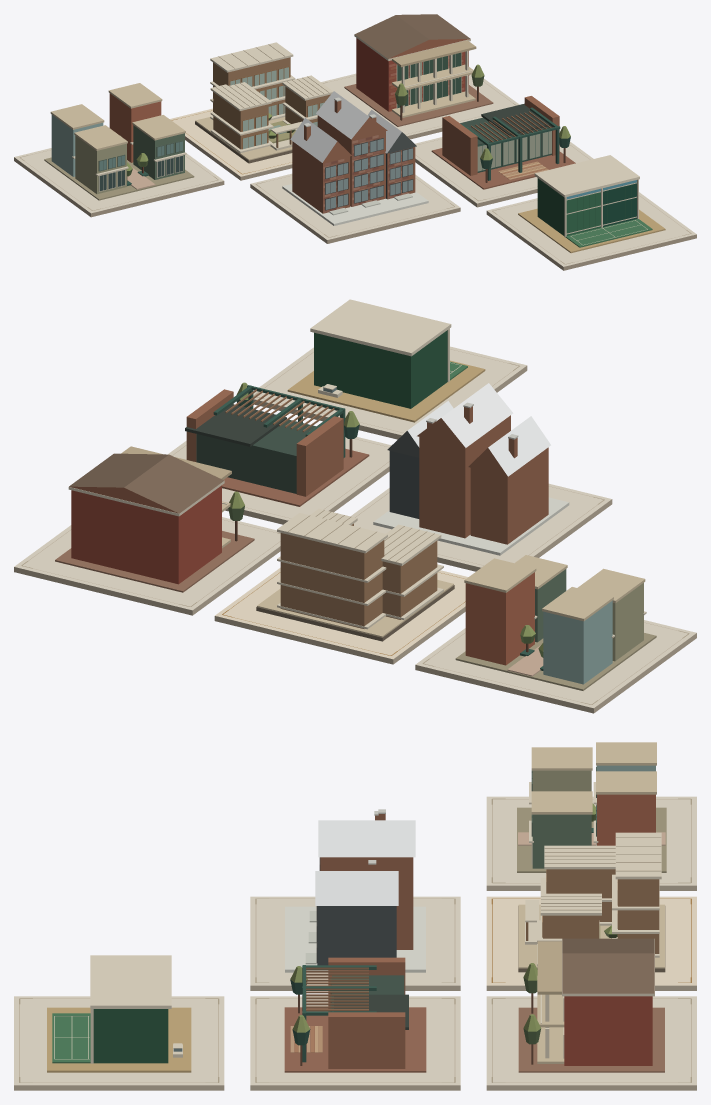
File: loom-district.glb
The picture shows the model from 3 angles, top to bottom: view 1: azimuth 30°, elevation 25°; view 2: azimuth 150°, elevation 25°; view 3: azimuth 270°, elevation 25°; orthographic projection. The views are drawn at different scales.
Parts seen in each view (by area): view 1: District grounds, The Northern Row mesh, The Southern Row mesh, Row 2030 mesh, The Architect’s Cut mesh, Court Society mesh, The Missing House mesh; view 2: District grounds, The Northern Row mesh, The Southern Row mesh, Row 2030 mesh, The Architect’s Cut mesh, The Missing House mesh, Court Society mesh; view 3: District grounds, The Southern Row mesh, The Northern Row mesh, The Missing House mesh, Row 2030 mesh, The Architect’s Cut mesh, Court Society mesh.
Boxes of the visible parts, box(x1,y1,x2,y2) form: District grounds: box(14, 73, 696, 270); The Northern Row mesh: box(282, 91, 428, 225); The Southern Row mesh: box(344, 14, 493, 126); Row 2030 mesh: box(44, 83, 194, 200); The Architect’s Cut mesh: box(195, 42, 333, 163); Court Society mesh: box(518, 155, 665, 253); The Missing House mesh: box(431, 96, 575, 189); District grounds: box(14, 346, 696, 713); The Northern Row mesh: box(373, 383, 569, 555); The Southern Row mesh: box(55, 446, 254, 592); Row 2030 mesh: box(455, 555, 656, 690); The Architect’s Cut mesh: box(256, 509, 454, 641); The Missing House mesh: box(185, 382, 369, 506); Court Society mesh: box(287, 299, 485, 422); District grounds: box(14, 796, 696, 1090); The Southern Row mesh: box(518, 938, 664, 1072); The Northern Row mesh: box(285, 809, 425, 972); The Missing House mesh: box(284, 957, 426, 1072); Row 2030 mesh: box(517, 742, 666, 872); The Architect’s Cut mesh: box(518, 832, 665, 972); Court Society mesh: box(47, 955, 191, 1072).
Size of the model in its own units: 89.6 by 18.85 by 89.6.
